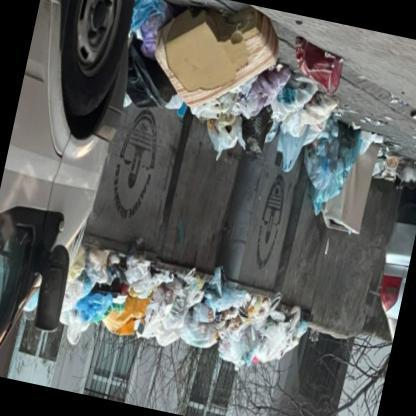Garbage: (62, 250, 226, 354), (178, 274, 310, 368), (289, 110, 360, 218), (246, 73, 314, 172), (280, 32, 346, 98), (198, 100, 272, 156), (119, 44, 178, 114), (123, 0, 172, 59), (372, 147, 402, 182)
